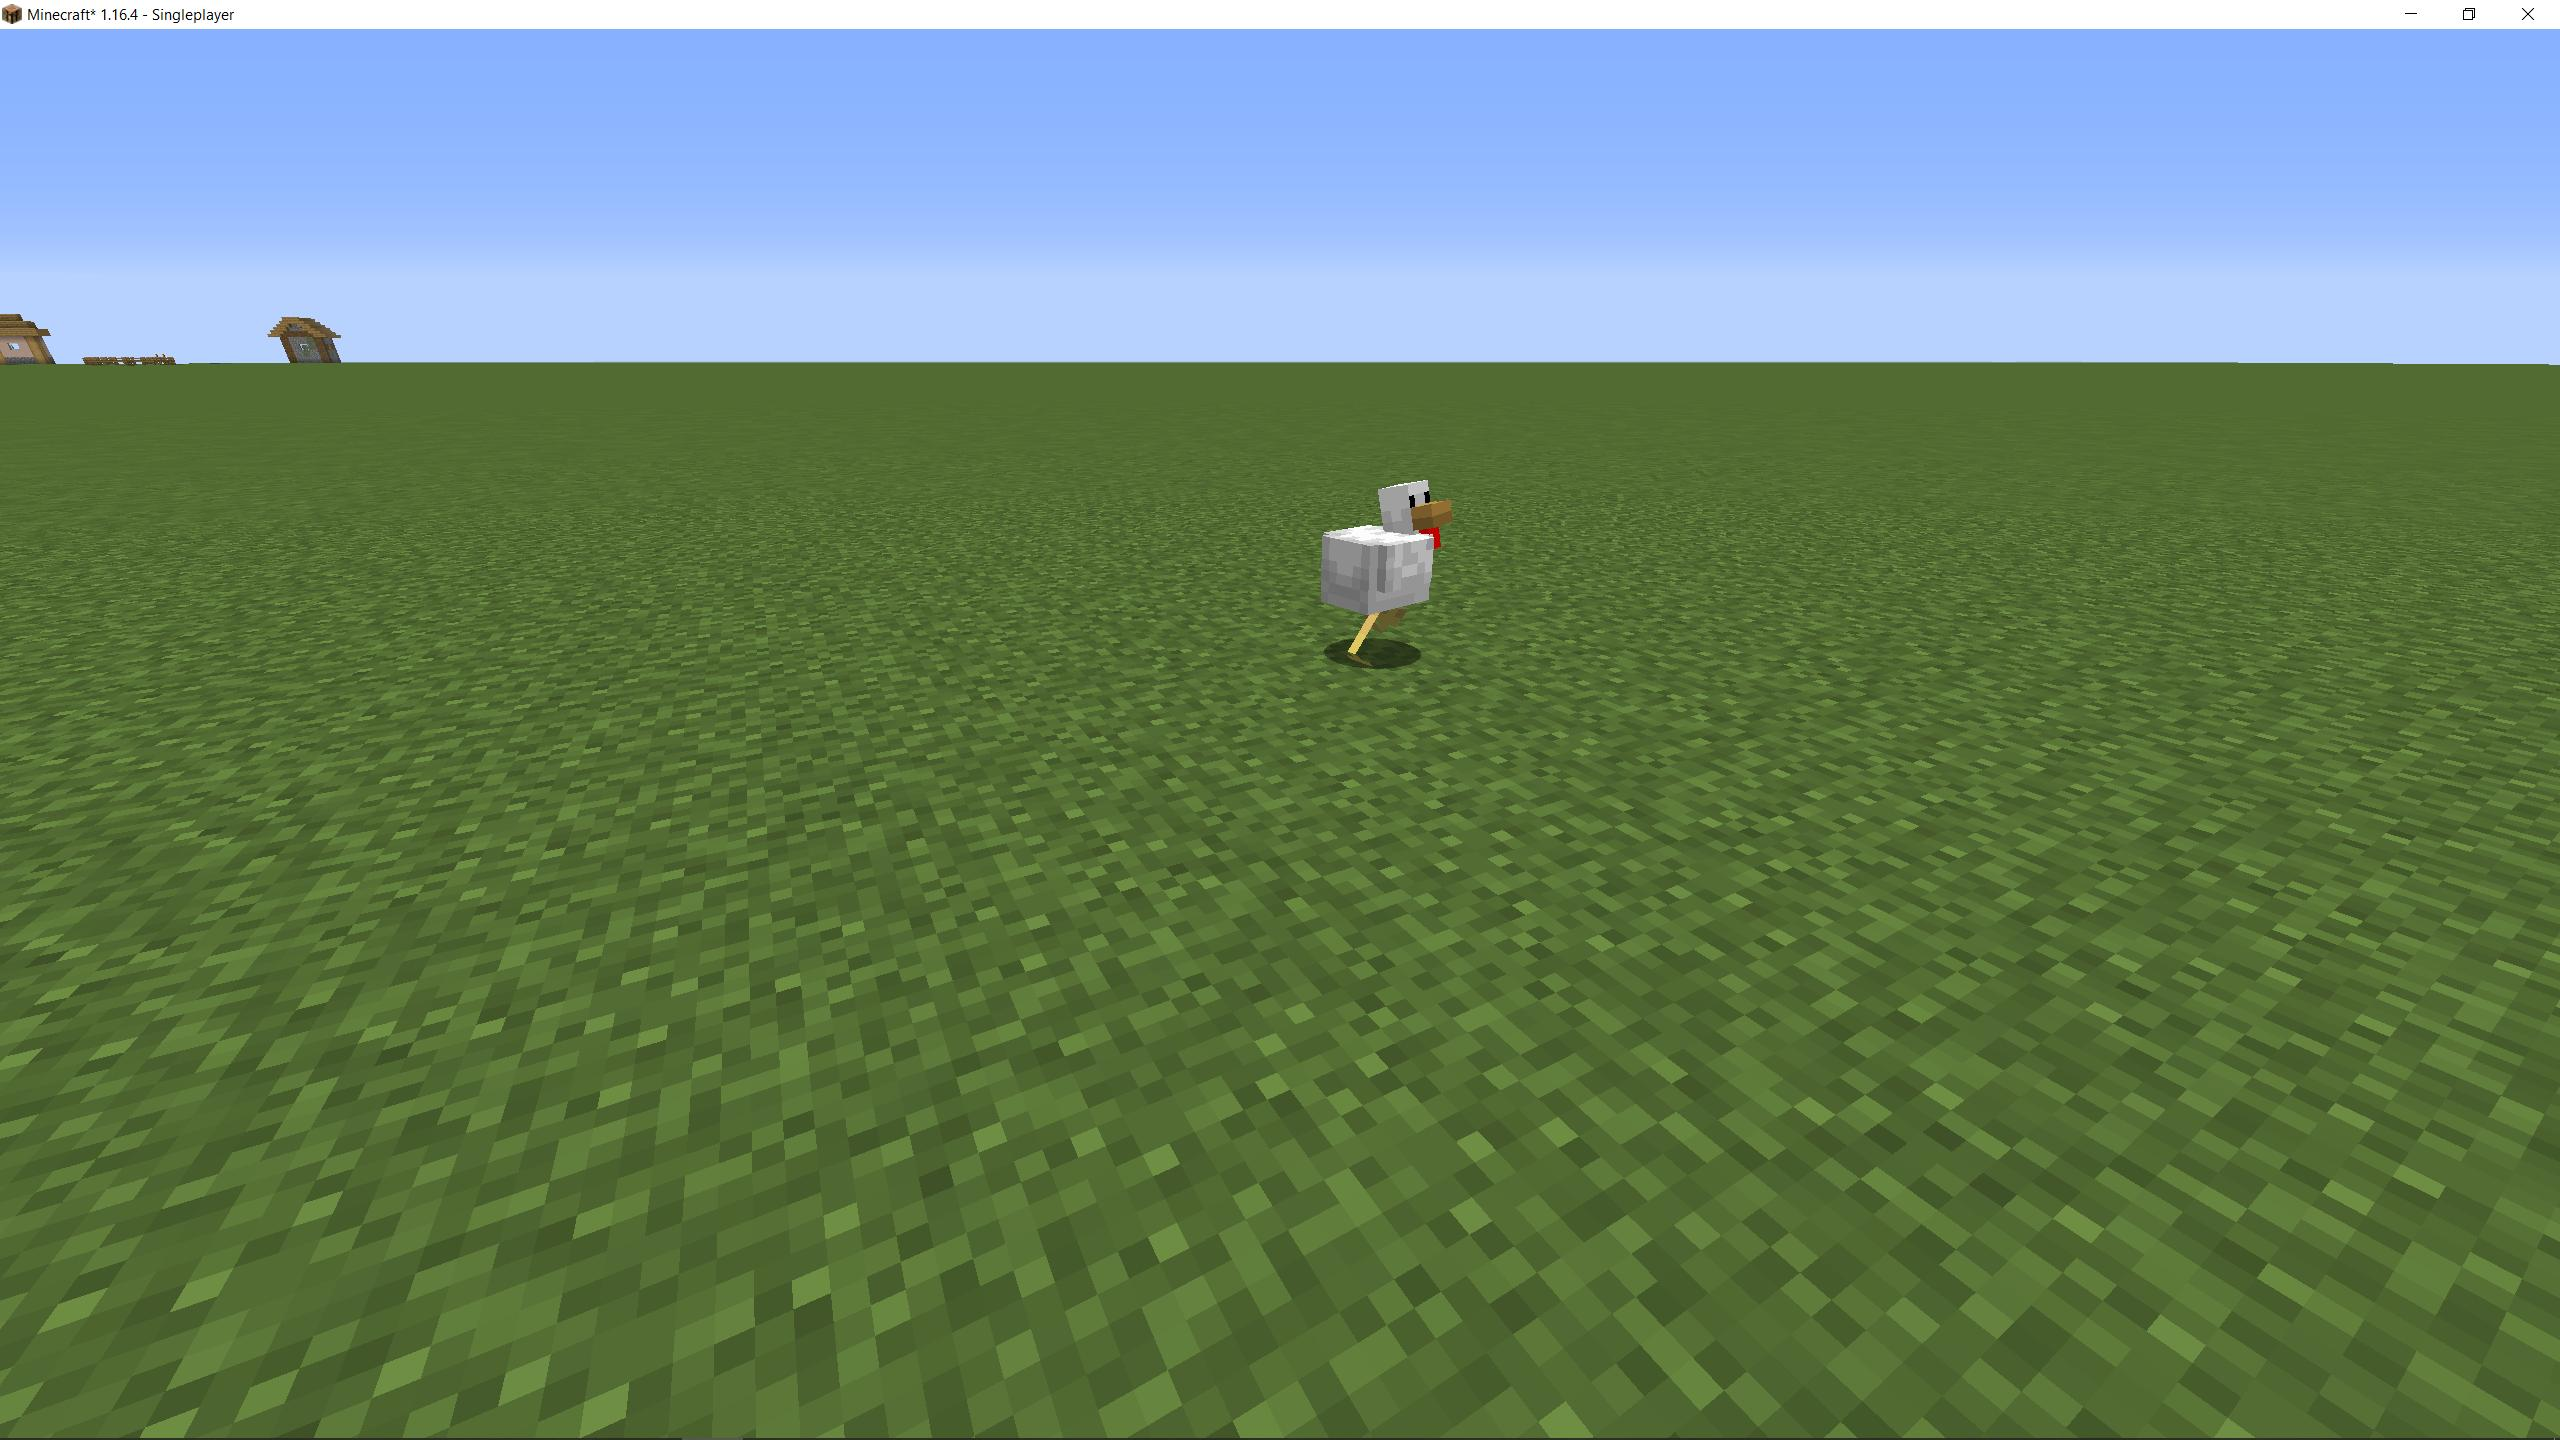chicken: (1315, 468, 1458, 670)
